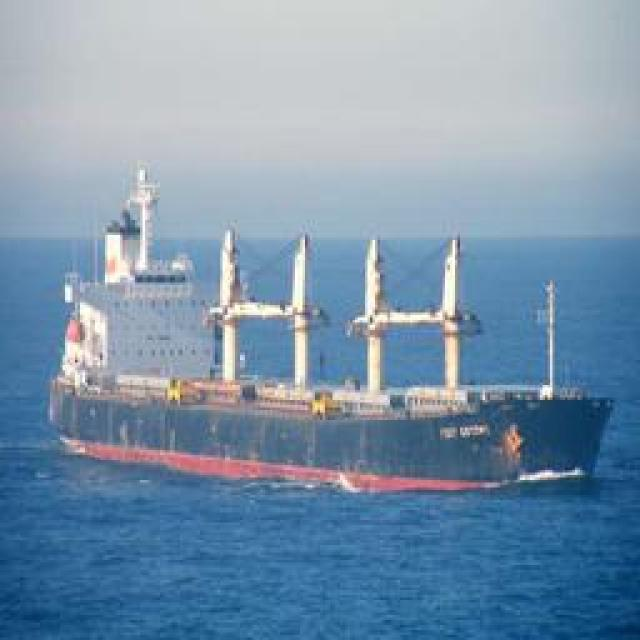CIV_Ship: (56, 214, 614, 494)
